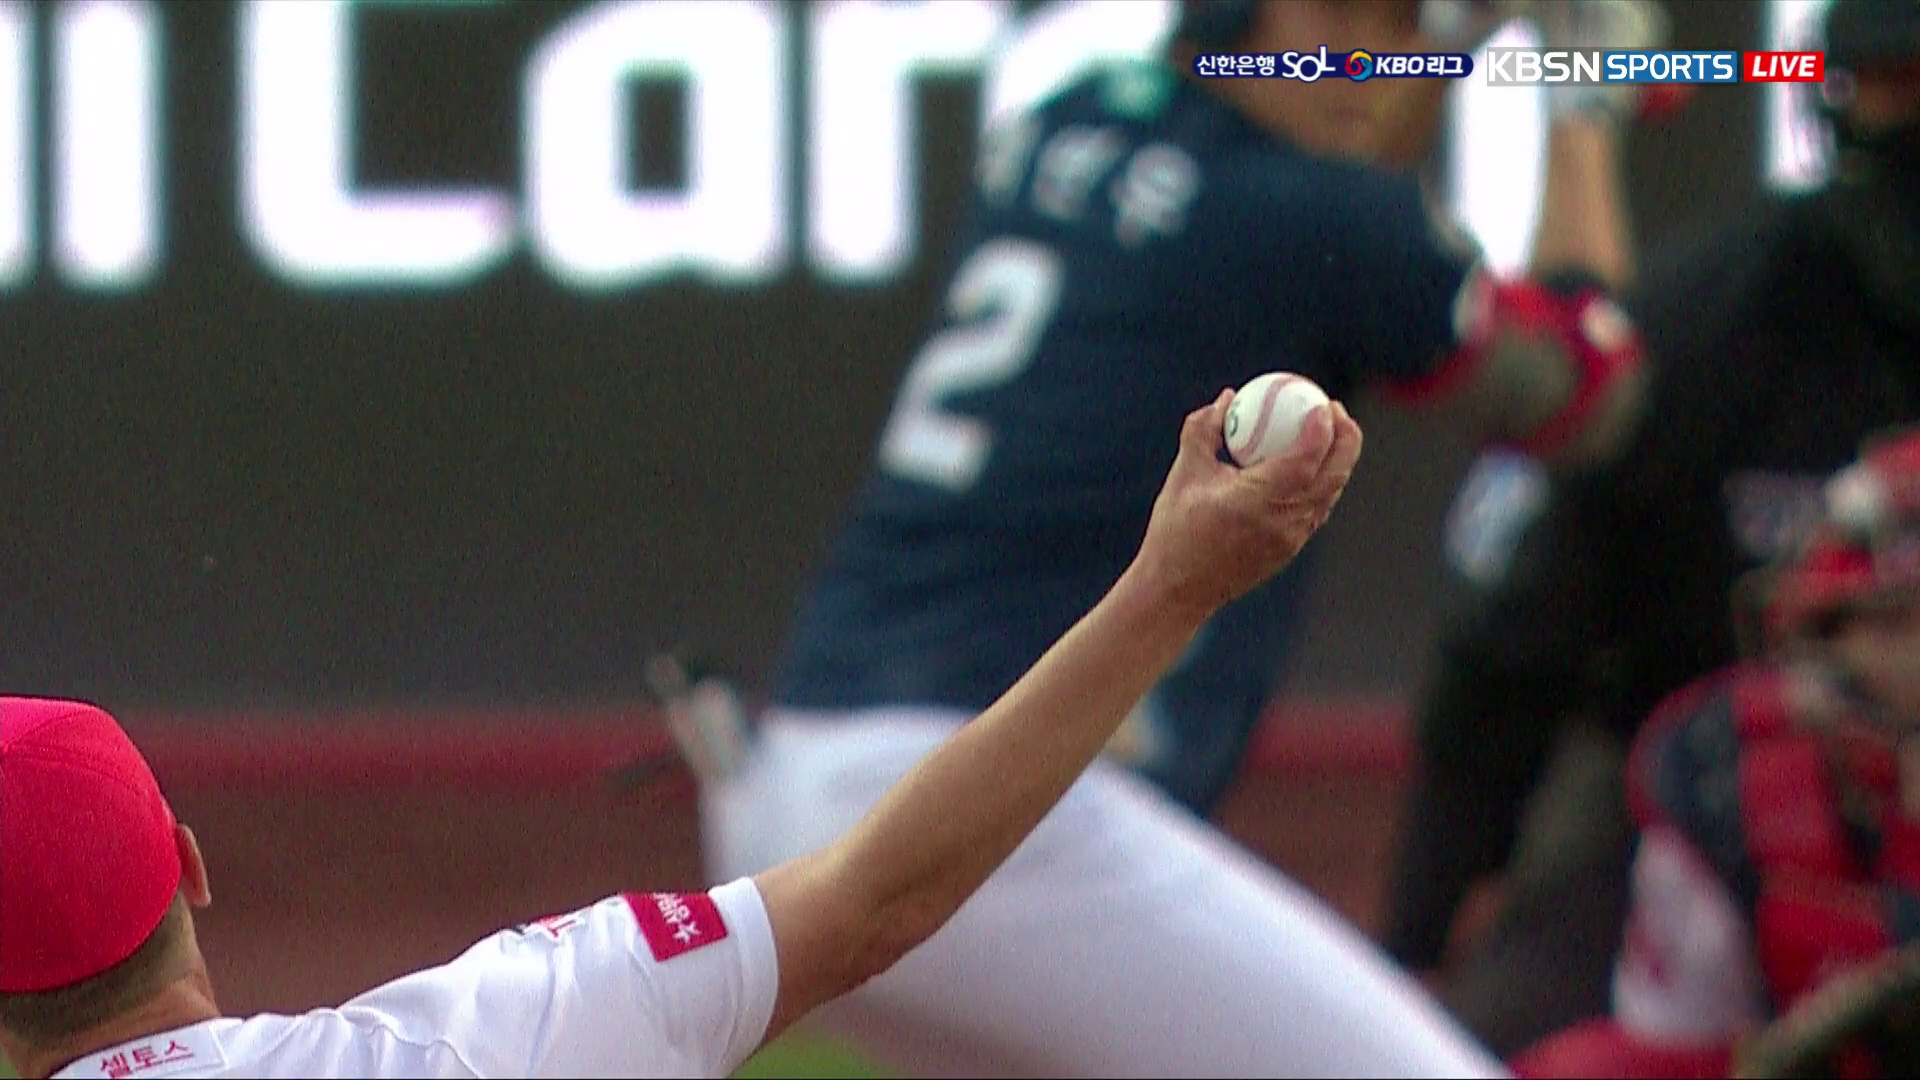zoomin_hand: (796, 365, 1371, 1010)
